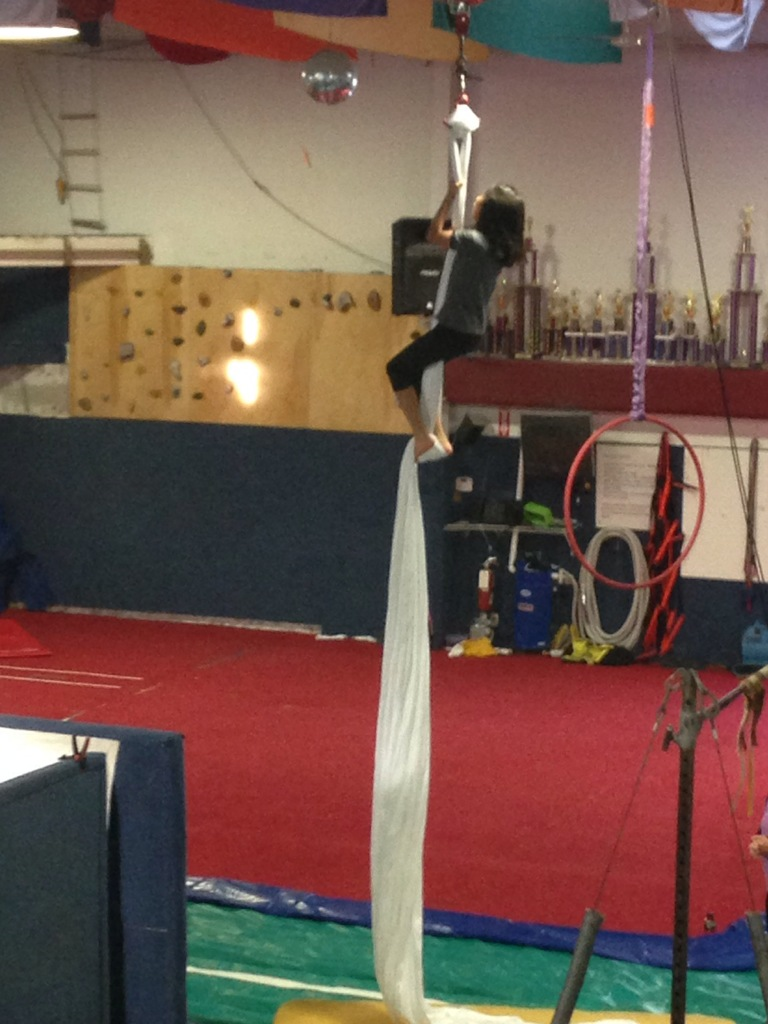Person: (384, 171, 530, 463)
